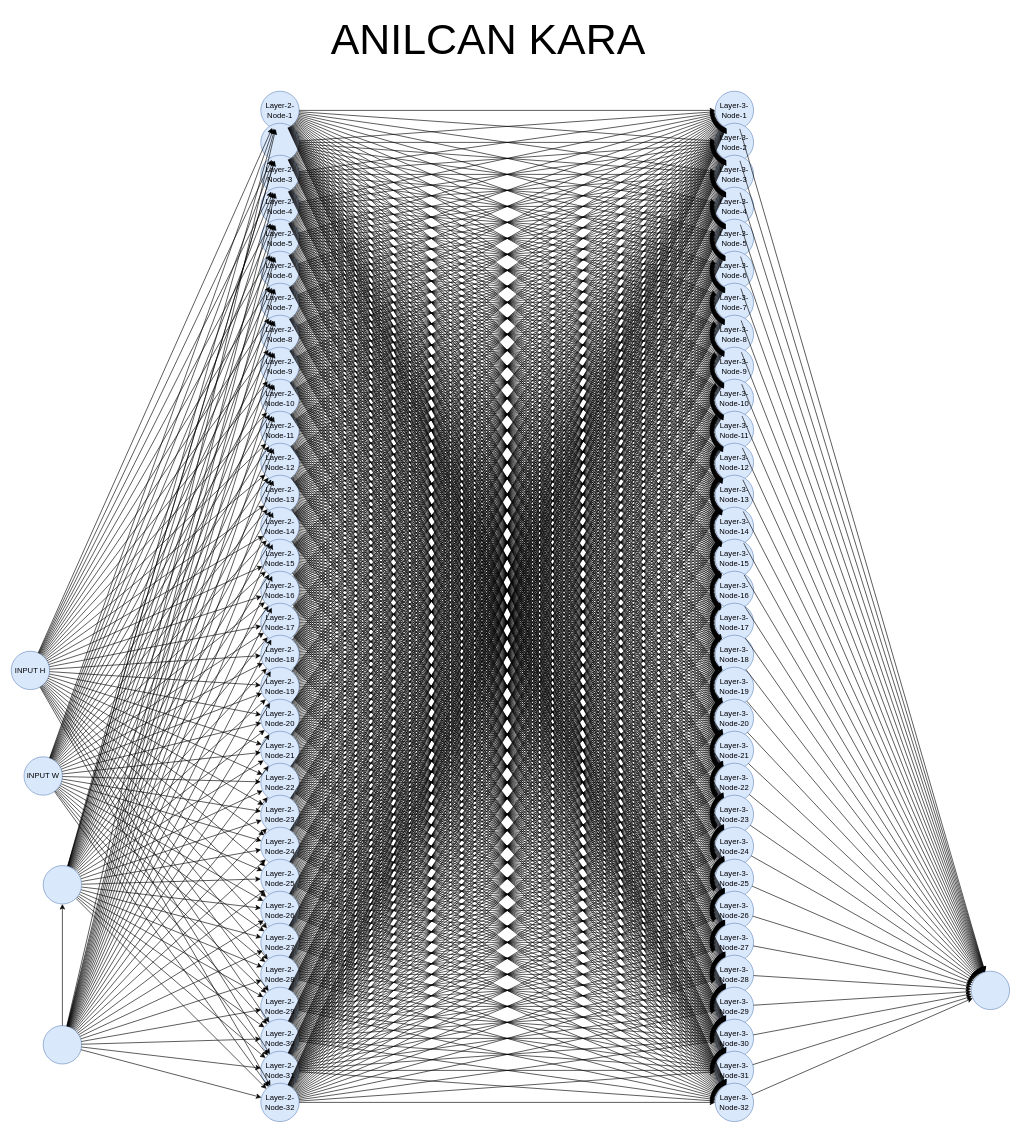
This 1021x1133 diagram has some shape labels left out. The shapes that lost their labels are listed below. From the top down, each one's centre as x and y in pixels, then its label:
the point at 279,142: Layer-2-Node-2
the point at 62,884: INPUT L
the point at 990,990: OUTPUT GHZ
the point at 62,1044: INPUT Elemanlararasımesafe
